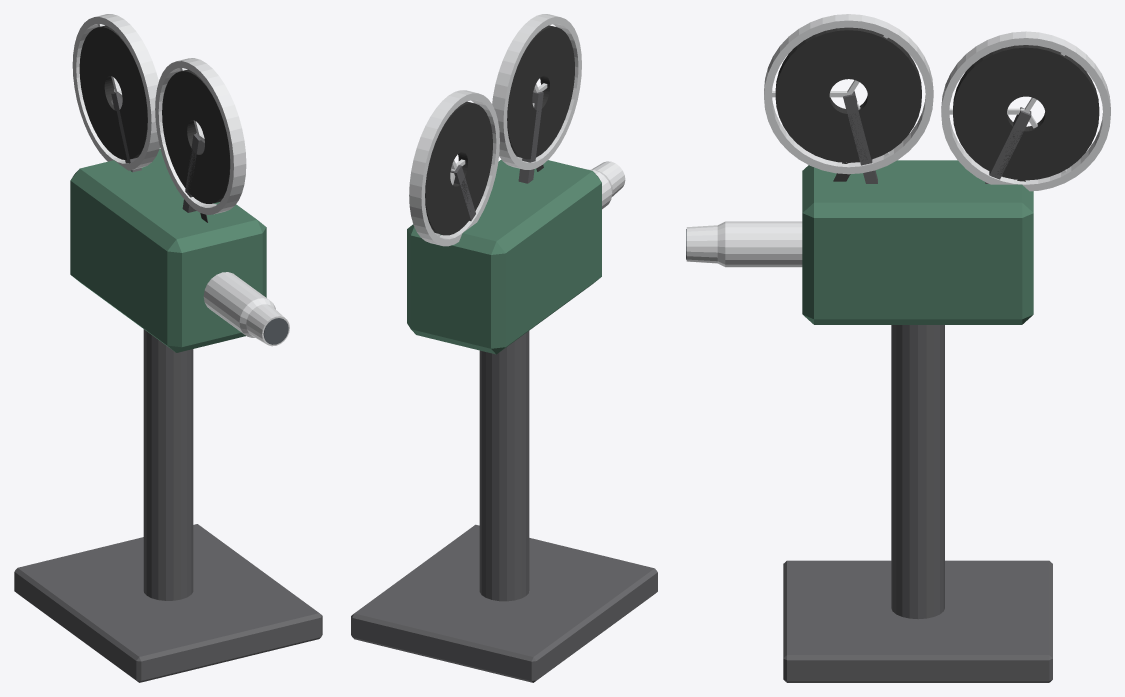
Rendered from projetor_filme.glb.
The picture shows the model from 3 angles, left to right: view 1: azimuth 30°, elevation 25°; view 2: azimuth 150°, elevation 25°; view 3: azimuth 270°, elevation 25°; orthographic projection. The views are drawn at different scales.
Visible parts, largest first — view 1: projetor_filme_esmalte_escuro, projetor_filme_verde_estacao, projetor_filme_disco, projetor_filme_aco_polido, projetor_filme_vidro_escuro; view 2: projetor_filme_esmalte_escuro, projetor_filme_verde_estacao, projetor_filme_disco, projetor_filme_aco_polido; view 3: projetor_filme_esmalte_escuro, projetor_filme_verde_estacao, projetor_filme_disco, projetor_filme_aco_polido.
Part boxes in pixels (box(x1,y1,x2,y2)): projetor_filme_esmalte_escuro: box(14, 92, 322, 682); projetor_filme_verde_estacao: box(70, 149, 266, 352); projetor_filme_disco: box(79, 25, 230, 222); projetor_filme_aco_polido: box(72, 14, 289, 346); projetor_filme_vidro_escuro: box(263, 318, 288, 344); projetor_filme_esmalte_escuro: box(351, 91, 657, 682); projetor_filme_verde_estacao: box(407, 159, 601, 354); projetor_filme_disco: box(425, 25, 574, 235); projetor_filme_aco_polido: box(409, 14, 625, 246); projetor_filme_esmalte_escuro: box(783, 91, 1052, 682); projetor_filme_verde_estacao: box(802, 160, 1033, 324); projetor_filme_disco: box(775, 27, 1099, 181); projetor_filme_aco_polido: box(686, 14, 1110, 267).
Bounding box in the file's own units: 0.6 × 1.77 × 1.1.
